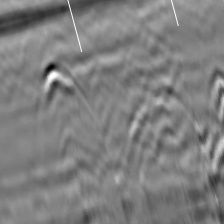Utility: (130, 86, 190, 146), (43, 56, 74, 101), (200, 133, 224, 181), (207, 65, 224, 121)
